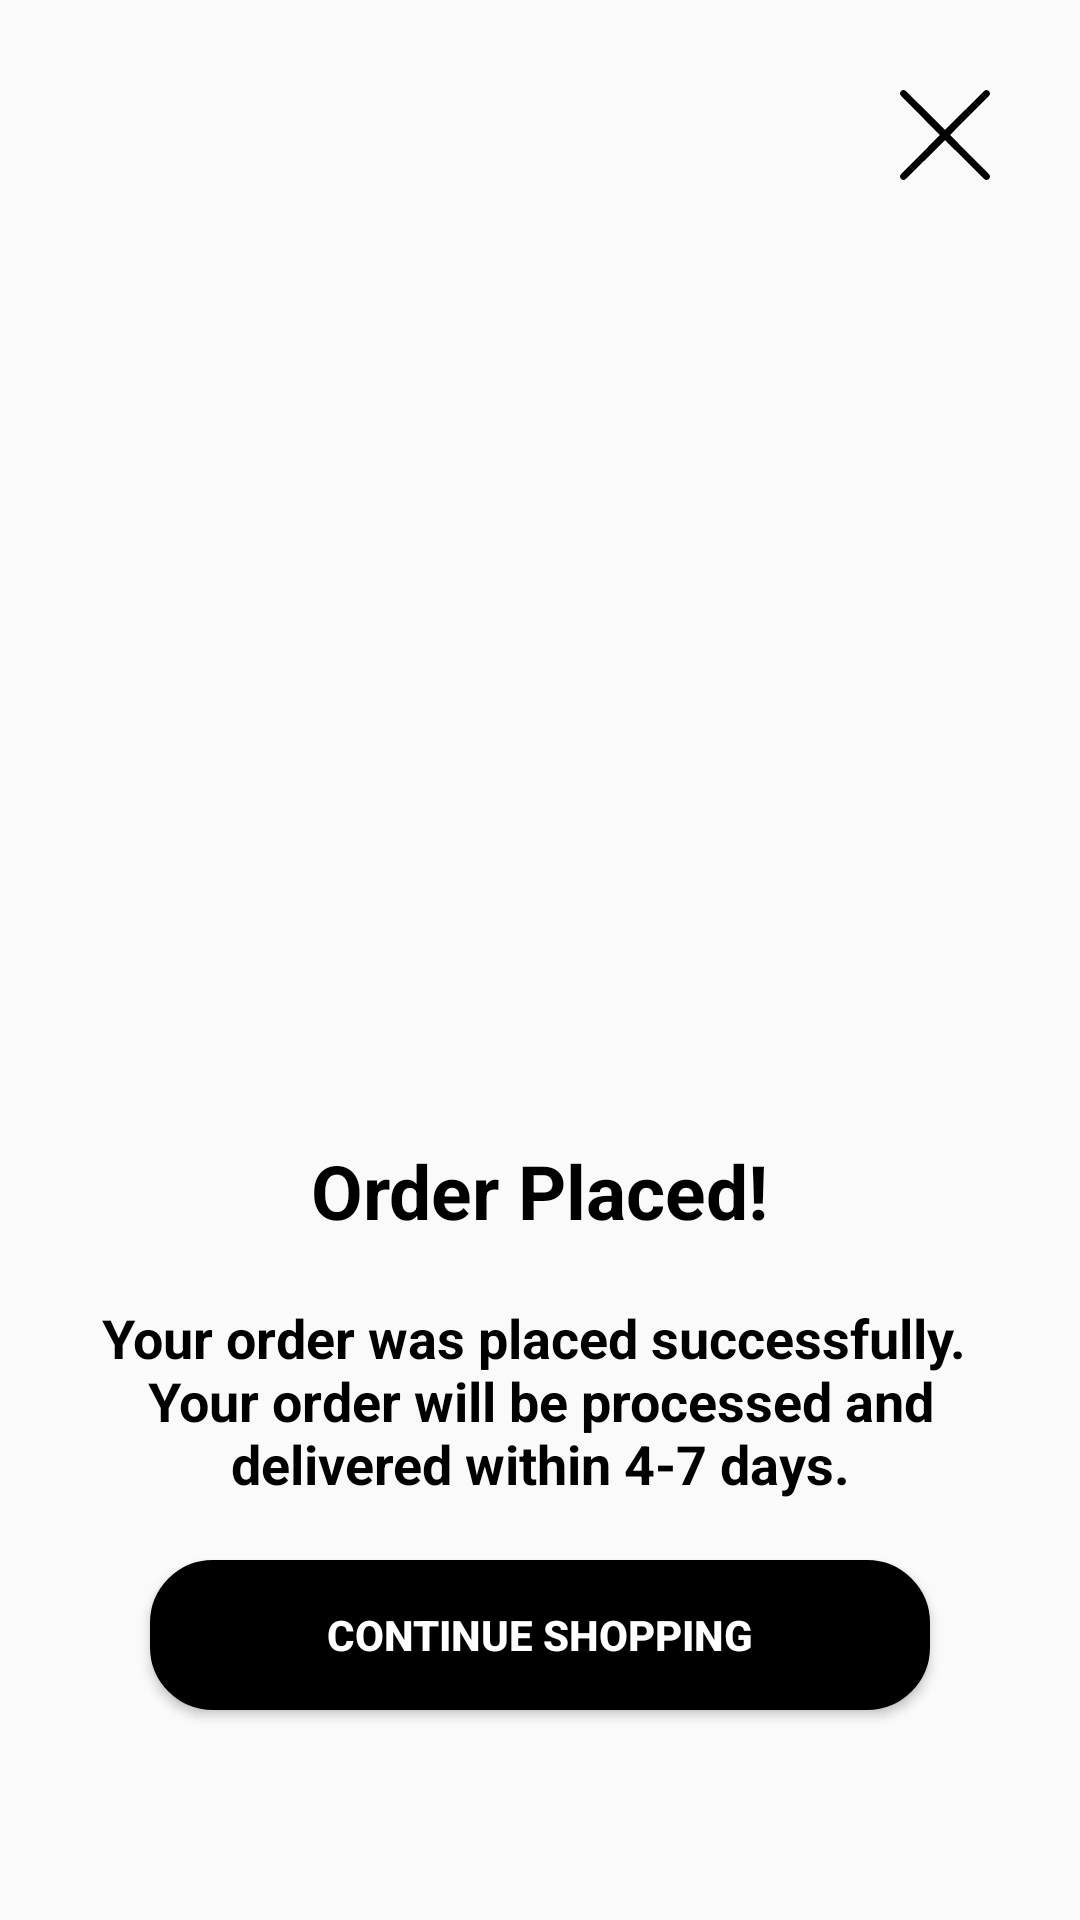

Icon bounding boxes for this 1080 x 1920 phone screenshot, format (x1, y1, x2, y2):
cancel: (900, 90, 990, 180)
